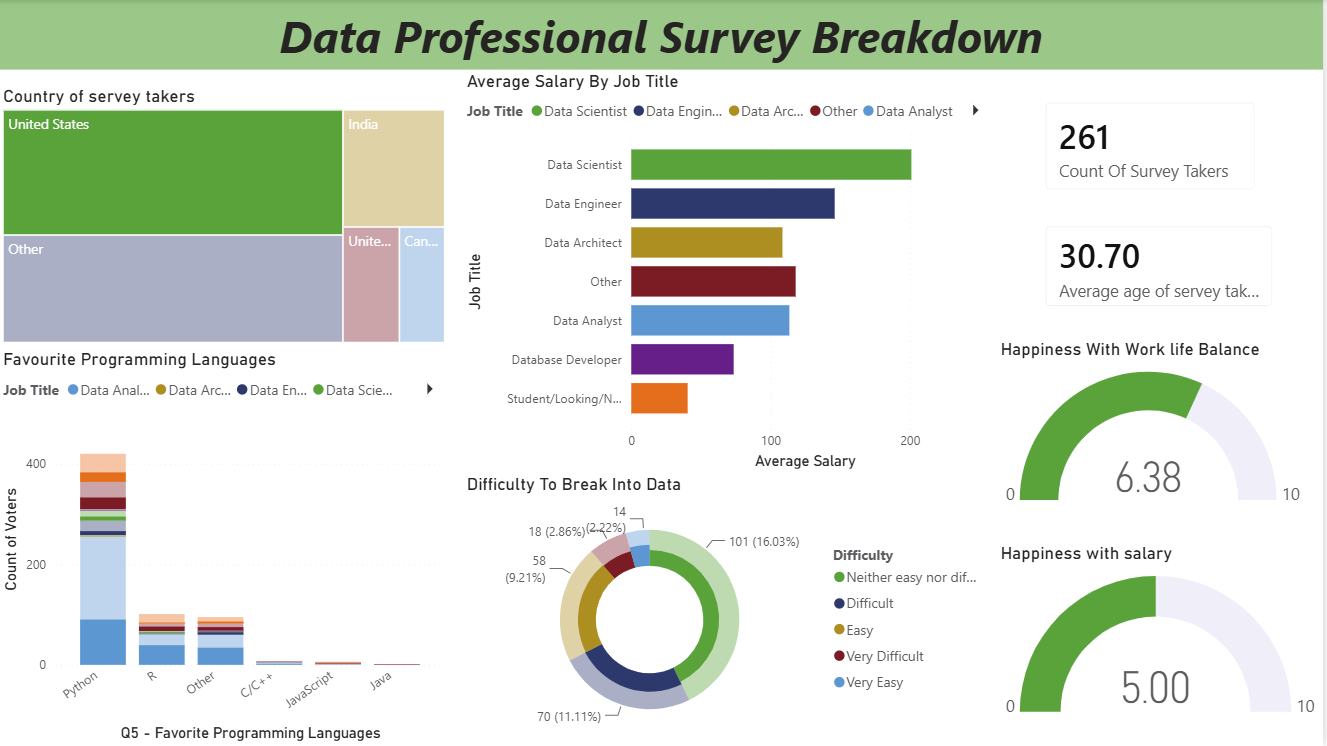

Layout of this report page (visuals, bound fields, positions):
{"tool":"powerbi","page":{"name":"Page 1","canvas":[1280,720],"ordinal":0},"visuals":[{"type":"textbox","box":[0,0,1280,67.6],"z":0},{"type":"cardVisual","fields":{"Data":["Avg(Data Professional Survey.Q10 - Current Age)"]},"box":[993.8,201.2,253.8,111.2],"z":1000},{"type":"barChart","title":"Average Salary By Job Title","fields":{"Category":["Data Professional Survey.Q1 - Which Title Best Fits your Current Role?.1"],"Y":["Avg(Data Professional Survey.average salary.1)"],"Series":["Data Professional Survey.Q1 - Which Title Best Fits your Current Role?.1"]},"box":[447.5,67.5,515,390],"z":2000},{"type":"columnChart","title":"Favourite Programming Languages","fields":{"Category":["Data Professional Survey.Q5 - Favorite Programming Language.1"],"Y":["CountNonNull(Data Professional Survey.Unique ID)"],"Series":["Data Professional Survey.Q1 - Which Title Best Fits your Current Role?.1"]},"box":[0,336.2,436.2,383.8],"z":3000},{"type":"treemap","title":"Country of servey takers","fields":{"Group":["Data Professional Survey.Q11 - Which Country do you live in?.1"],"Values":["CountNonNull(Data Professional Survey.Q11 - Which Country do you live in?.1)"]},"box":[0,82.5,436.2,253.8],"z":4000},{"type":"gauge","title":"Happiness with salary","fields":{"Y":["Avg(Data Professional Survey.Q6 - How Happy are you in your Current Position with the following? (Salary))"],"MinValue":["Min(Data Professional Survey.Q6 - How Happy are you in your Current Position with the following? (Salary))"],"MaxValue":["Max(Data Professional Survey.Q6 - How Happy are you in your Current Position with the following? (Salary))"]},"box":[962.3,523.8,317.9,181.7],"z":5000},{"type":"gauge","title":"Happiness With Work life Balance","fields":{"Y":["Avg(Data Professional Survey.Q6 - How Happy are you in your Current Position with the following? (Work/Life Balance))"],"MinValue":["Min(Data Professional Survey.Q6 - How Happy are you in your Current Position with the following? (Work/Life Balance))"],"MaxValue":["Max(Data Professional Survey.Q6 - How Happy are you in your Current Position with the following? (Work/Life Balance))1"]},"box":[962.5,327.5,303.8,173.8],"z":6000},{"type":"donutChart","title":"Difficulty To Break Into Data","fields":{"Category":["Data Professional Survey.Q7 - How difficult was it for you to break into Data?"],"Y":["CountNonNull(Data Professional Survey.Q7 - How difficult was it for you to break into Data?)"]},"box":[447.5,457.5,515,262.5],"z":7000},{"type":"cardVisual","fields":{"Data":["Count(Data Professional Survey.Unique ID)"]},"box":[993.8,82.5,236.2,118.8],"z":8000}]}

Visuals, with their boxes in screenshot pixels (x1, y1, x2, y2), scaled from the page's 1280x720 canvas onto the 1327x746 screenshot:
textbox: 0 0 1326 70
cardVisual - Avg(Data Professional Survey.Q10 - Current Age): 1030 208 1293 324
"Average Salary By Job Title" barChart: 464 70 998 474
"Favourite Programming Languages" columnChart: 0 348 452 745
"Country of servey takers" treemap: 0 85 452 348
"Happiness with salary" gauge: 998 543 1326 731
"Happiness With Work life Balance" gauge: 998 339 1313 519
"Difficulty To Break Into Data" donutChart: 464 474 998 745
cardVisual - Count(Data Professional Survey.Unique ID): 1030 85 1275 209
